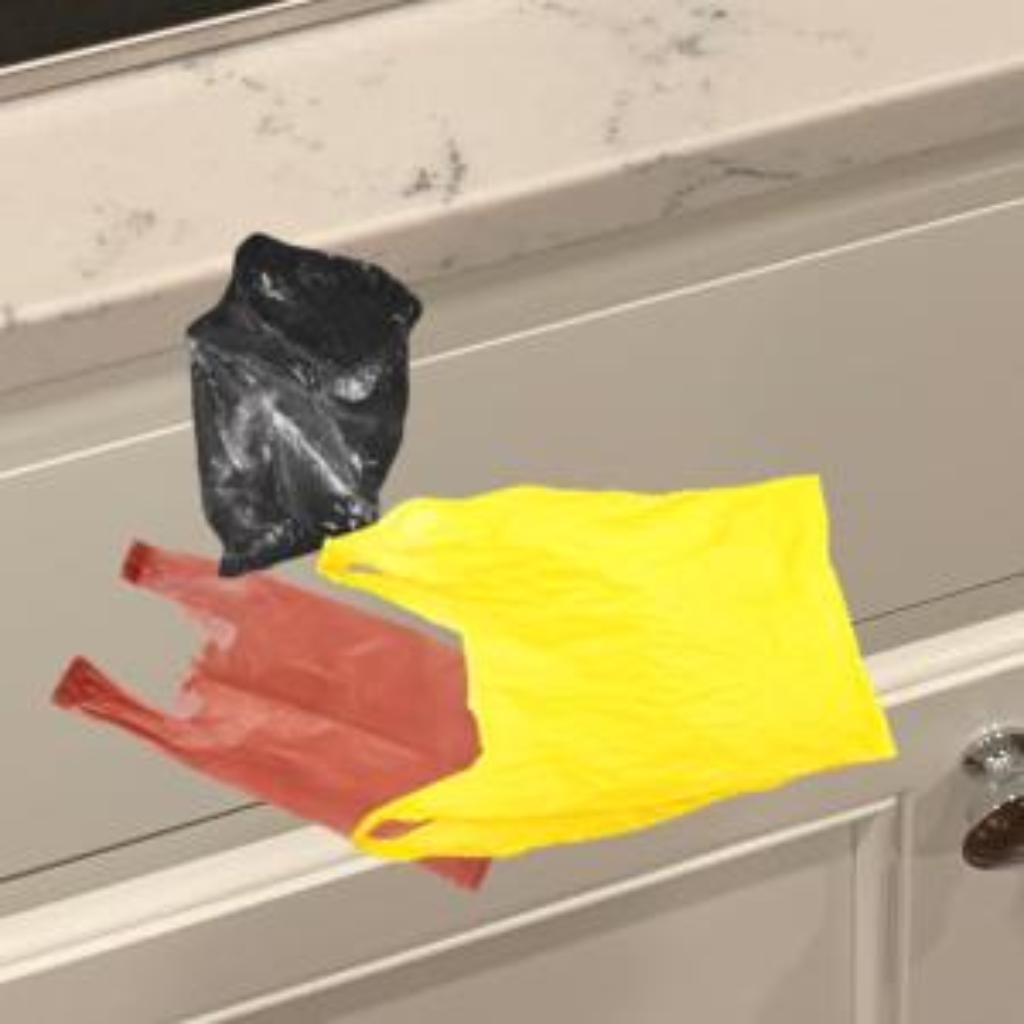garbage: (314, 469, 963, 869), (51, 532, 543, 918), (128, 205, 452, 570)
